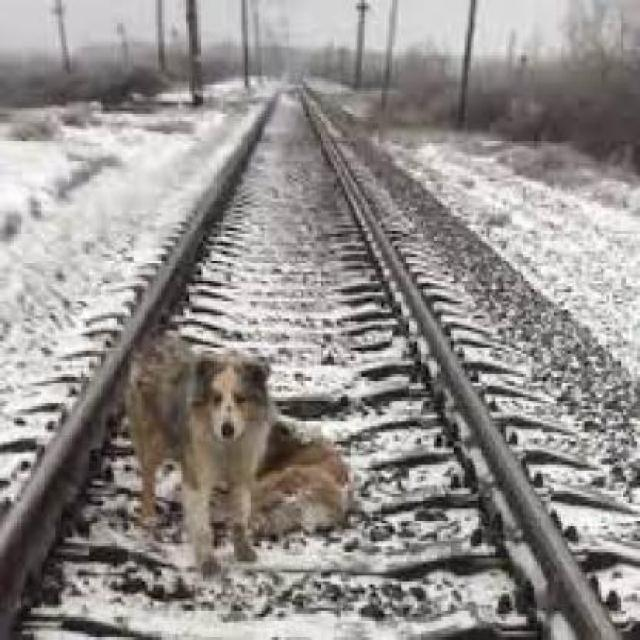danger: (97, 305, 375, 594)
rail: (2, 71, 632, 639)
